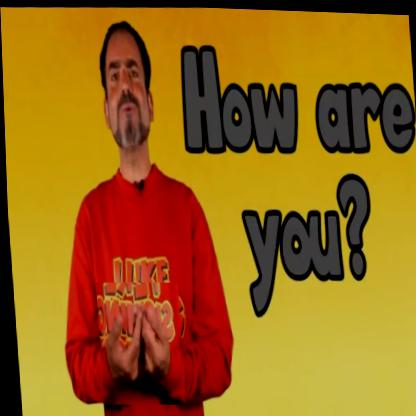HowAreYou: (94, 279, 184, 407)
